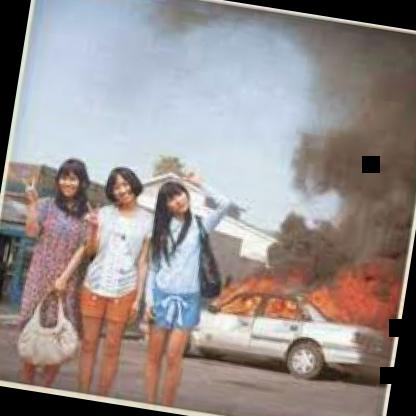fire: (186, 186, 414, 385)
